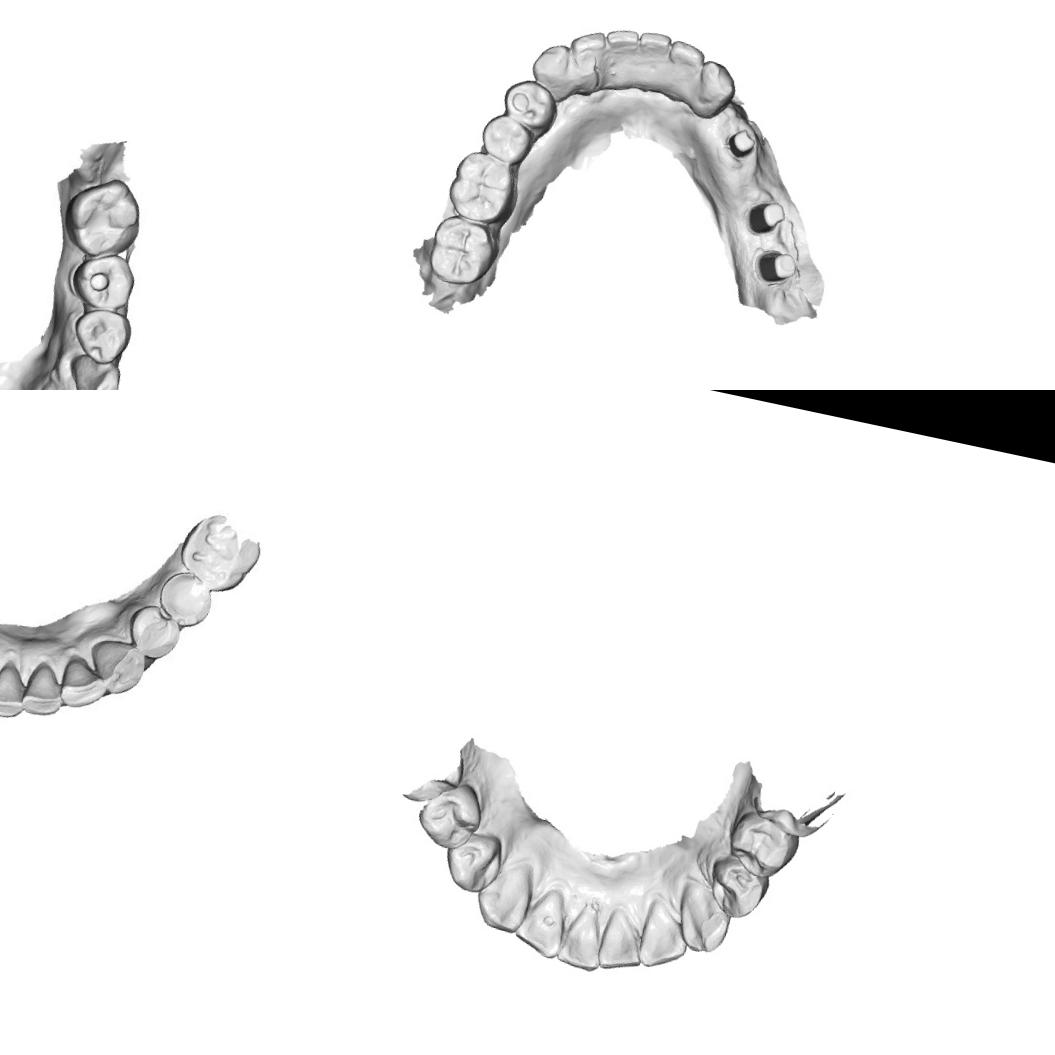abutment: (750, 246, 800, 290), (742, 196, 788, 240), (723, 125, 760, 163)
canine: (470, 854, 543, 938), (669, 878, 738, 958), (82, 634, 152, 704), (525, 38, 582, 105), (689, 59, 740, 124), (61, 347, 125, 390)
incisor: (510, 888, 576, 963), (553, 898, 612, 976), (595, 902, 650, 976), (637, 899, 692, 970), (559, 25, 610, 100), (660, 38, 708, 106), (595, 25, 642, 94), (628, 28, 673, 95), (60, 654, 108, 713), (22, 664, 70, 721), (0, 659, 29, 723)
molar: (55, 167, 150, 263), (443, 146, 525, 230), (424, 210, 504, 292), (180, 512, 262, 589)
premolar: (721, 807, 804, 883), (413, 777, 488, 857), (66, 245, 142, 320), (702, 849, 775, 924), (440, 826, 508, 898), (68, 304, 136, 367), (496, 75, 564, 138), (158, 567, 220, 632), (476, 110, 538, 168), (130, 608, 188, 664)
